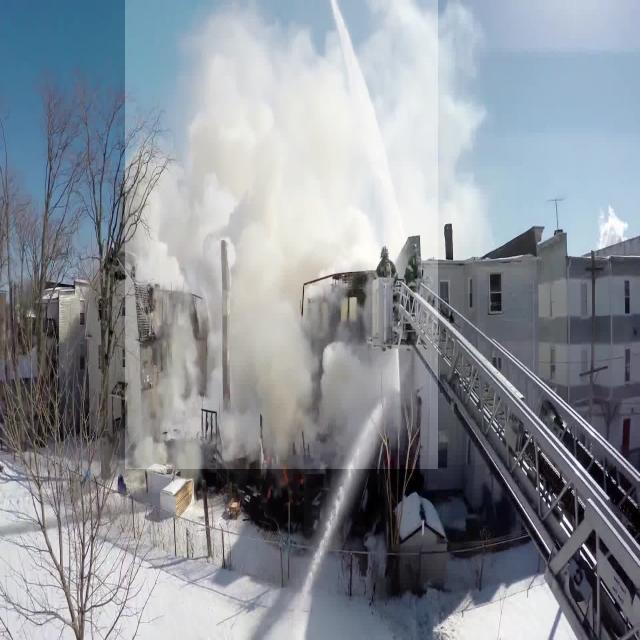Smoke: (125, 0, 438, 469)
